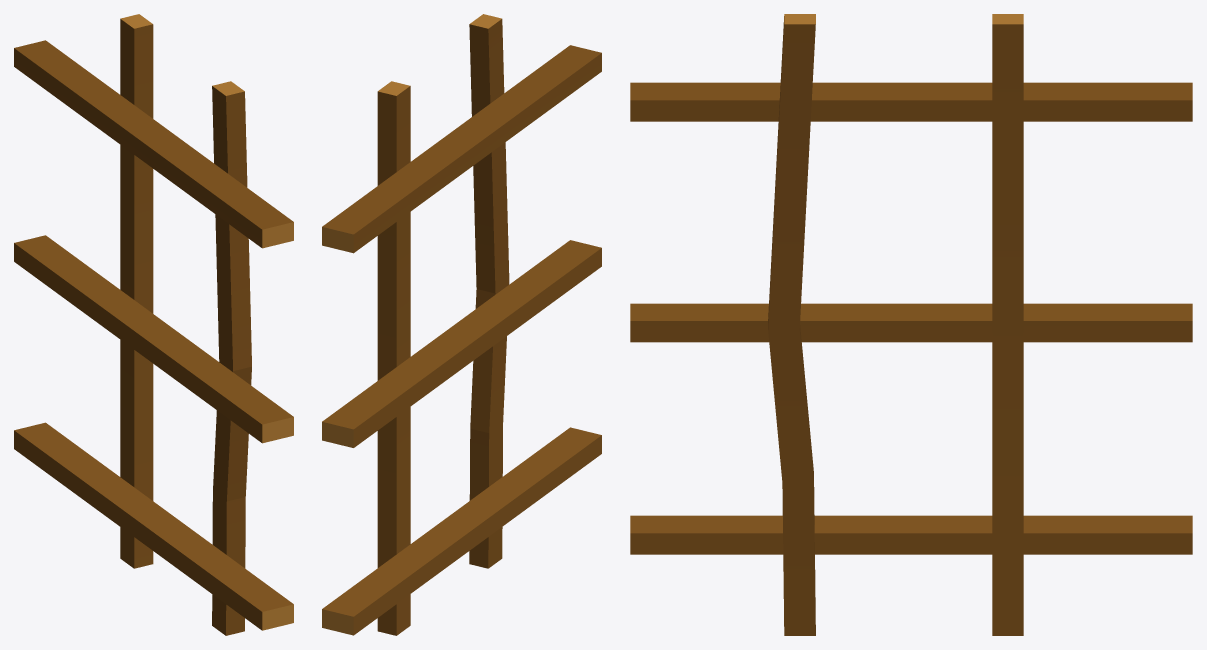
Rendered from WoodFrame_2_2.obj.
3 renders of one model, left to right at view 1: azimuth 30°, elevation 25°; view 2: azimuth 150°, elevation 25°; view 3: azimuth 270°, elevation 25°, orthographic. The views are drawn at different scales.
Visible parts, largest first — view 1: WoodFrame_2_2; view 2: WoodFrame_2_2; view 3: WoodFrame_2_2.
Boxes of the visible parts, x1,y1,x2,y2 form: WoodFrame_2_2: (14,14,293,635); WoodFrame_2_2: (322,14,601,635); WoodFrame_2_2: (630,14,1192,635).
Size of the model in its own units: 0.2357 by 2.4 by 2.
